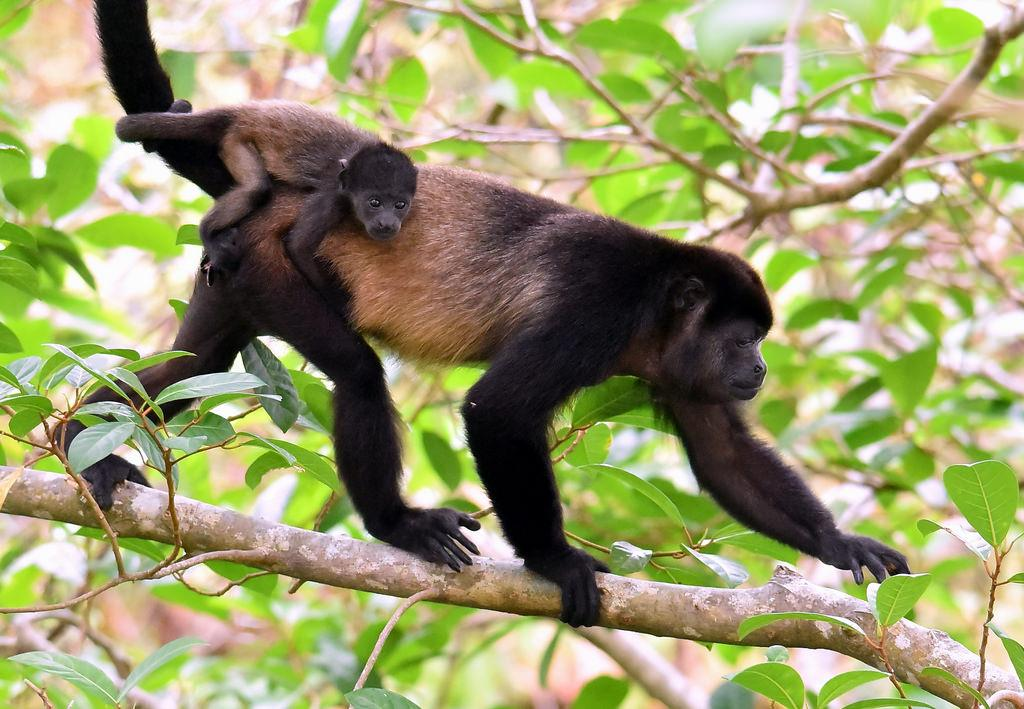monkey: (111, 101, 911, 623)
